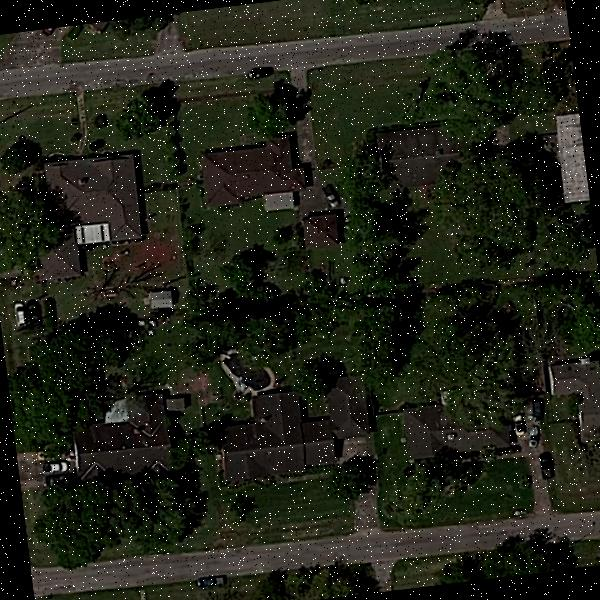Buildings: (43, 154, 145, 250), (219, 395, 334, 480), (202, 133, 309, 210), (81, 400, 176, 480), (384, 120, 455, 184), (548, 362, 600, 447), (557, 108, 591, 210), (406, 406, 468, 451), (332, 386, 368, 436), (302, 206, 341, 250), (152, 290, 170, 308)
